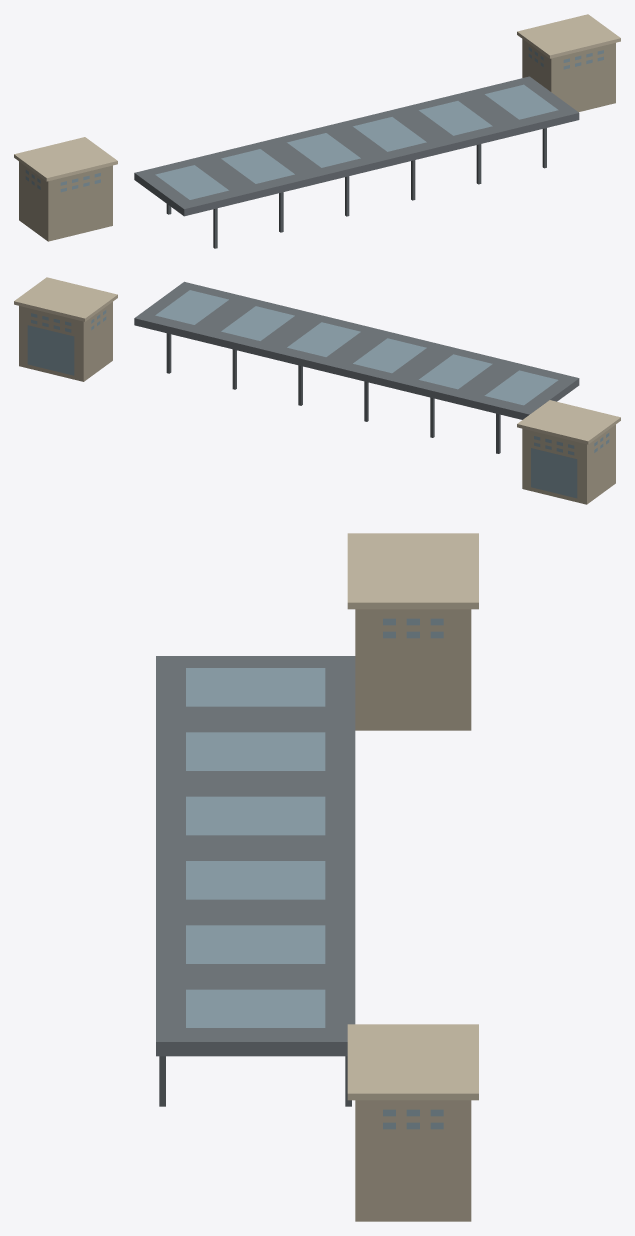
The picture shows the model from 3 angles, top to bottom: view 1: azimuth 30°, elevation 25°; view 2: azimuth 150°, elevation 25°; view 3: azimuth 270°, elevation 25°; orthographic projection. The views are drawn at different scales.
Parts seen in each view (by area): view 1: penn-station-lod1; view 2: penn-station-lod1; view 3: penn-station-lod1.
Part boxes in pixels (box(x1,y1,x2,y2)): penn-station-lod1: box(14, 14, 620, 248); penn-station-lod1: box(14, 277, 620, 504); penn-station-lod1: box(156, 533, 478, 1221).
Size of the model in its own units: 176 by 19.18 by 42.79.
